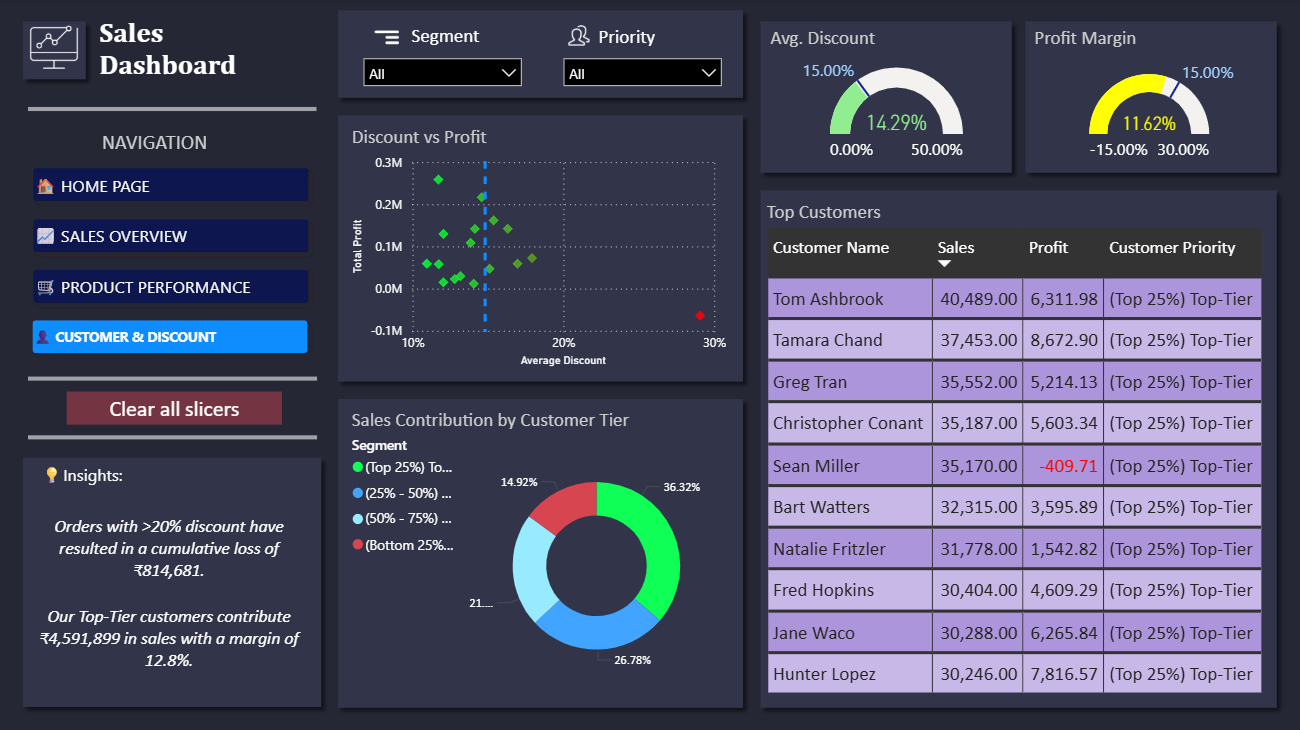

What the dashboard file says about the page in this screenshot:
{"tool":"powerbi","page":{"name":"👤 CUSTOMER & DISCOUNT","canvas":[1280,720],"ordinal":3},"visuals":[{"type":"shape","box":[739.9,179.1,523.9,525.2],"z":0},{"type":"textbox","box":[94.5,12.1,157.5,73.8],"z":1000},{"type":"shape","box":[739.9,13.5,263.8,165.6],"z":2000},{"type":"shape","box":[29.4,95.7,283.4,24.5],"z":3000},{"type":"shape","box":[29.5,360.8,283.8,23.8],"z":4000},{"type":"shape","box":[15.7,13.3,78.8,73.8],"z":5000},{"type":"image","box":[25.7,22.1,58.8,48.8],"z":6000},{"type":"shape","box":[325.2,2.5,414.7,103.1],"z":7000},{"type":"actionButton","box":[576.1,16.4,81.1,40.9],"z":8000},{"type":"slicer","title":"Year","fields":{"Values":["sales_analysis processed_sales_data.customer_priority"]},"box":[544.8,47.9,175.5,51.5],"z":9000},{"type":"actionButton","box":[79,118.5,150.6,42],"z":10000},{"type":"shape","box":[29.5,418.3,283.8,23.8],"z":11000},{"type":"pageNavigator","box":[25.9,156.8,288.9,203.7],"z":12000},{"type":"slicer","title":"Year","fields":{"Values":["sales_analysis processed_sales_data.segment"]},"box":[348.5,47.9,175.5,51.5],"z":13000},{"type":"actionButton","box":[391.4,16,95.7,40.5],"z":14000},{"type":"image","box":[365.4,18.2,32.1,37.7],"z":15000},{"type":"image","box":[557.9,25.8,23.9,20.1],"z":16000},{"type":"shape","box":[325.2,384.1,414.7,320.2],"z":17000},{"type":"shape","box":[16,442,309.9,261.7],"z":18000},{"type":"actionButton","box":[38.3,448.1,95.1,38.3],"z":19000},{"type":"card","fields":{"Values":["measures_3.dynamic_discount_impact"]},"box":[25.8,483.4,284.7,105.5],"z":20000},{"type":"card","fields":{"Values":["measures_3.dynamic_profit_margin"]},"box":[25.8,574.2,284.7,99.4],"z":21000},{"type":"tableEx","title":"Top Customers","fields":{"Values":["sales_analysis processed_sales_data.customer_name","measures (2).total_sales","measures (2).total_profit","sales_analysis processed_sales_data.customer_priority"]},"box":[749.7,197.5,506.8,493.3],"z":22000},{"type":"shape","box":[325.2,105.5,414.7,278.5],"z":23000},{"type":"scatterChart","title":"Discount vs Profit","fields":{"X":["measures_2.average_discount"],"Y":["measures (2).total_profit"],"Category":["sales_analysis processed_sales_data.sub_category"]},"box":[342.3,123.9,377.9,241.7],"z":24000},{"type":"donutChart","title":"Sales Contribution by Customer Tier","fields":{"Category":["sales_analysis processed_sales_data.customer_priority"],"Y":["measures (2).total_sales"]},"box":[342.3,401.2,379.1,288.3],"z":25000},{"type":"gauge","title":"Avg. Discount","fields":{"Y":["measures_2.average_discount"],"TargetValue":["measures_3.discount_target"],"MaxValue":["measures_3.discount_max"]},"box":[753.4,27,240.5,142.3],"z":26000},{"type":"actionButton","box":[67,385.8,211.2,32.5],"z":33000},{"type":"shape","box":[1000,13.5,263.8,165.6],"z":34000},{"type":"gauge","title":"Profit Margin","fields":{"Y":["measures (2).profit_margin"],"TargetValue":["measures_3.margin_target"],"MaxValue":["measures_3.margin_max"],"MinValue":["measures_3.margin_min"]},"box":[1012.3,27,240.5,142.3],"z":35000}]}

Visuals, with their boxes in screenshot pixels (x1, y1, x2, y2), scaled from the page's 1280x720 canvas onto the 1300x730 screenshot:
shape: BBox(751, 182, 1284, 714)
textbox: BBox(96, 12, 256, 87)
shape: BBox(751, 14, 1019, 182)
shape: BBox(30, 97, 318, 122)
shape: BBox(30, 366, 318, 390)
shape: BBox(16, 13, 96, 88)
image: BBox(26, 22, 86, 72)
shape: BBox(330, 3, 751, 107)
actionButton: BBox(585, 17, 667, 58)
"Year" slicer: BBox(553, 49, 732, 101)
actionButton: BBox(80, 120, 233, 163)
shape: BBox(30, 424, 318, 448)
pageNavigator: BBox(26, 159, 320, 366)
"Year" slicer: BBox(354, 49, 532, 101)
actionButton: BBox(398, 16, 495, 57)
image: BBox(371, 18, 404, 57)
image: BBox(567, 26, 591, 47)
shape: BBox(330, 389, 751, 714)
shape: BBox(16, 448, 331, 713)
actionButton: BBox(39, 454, 135, 493)
card - measures_3.dynamic_discount_impact: BBox(26, 490, 315, 597)
card - measures_3.dynamic_profit_margin: BBox(26, 582, 315, 683)
"Top Customers" tableEx: BBox(761, 200, 1276, 700)
shape: BBox(330, 107, 751, 389)
"Discount vs Profit" scatterChart: BBox(348, 126, 731, 371)
"Sales Contribution by Customer Tier" donutChart: BBox(348, 407, 733, 699)
"Avg. Discount" gauge: BBox(765, 27, 1009, 172)
actionButton: BBox(68, 391, 283, 424)
shape: BBox(1016, 14, 1284, 182)
"Profit Margin" gauge: BBox(1028, 27, 1272, 172)
